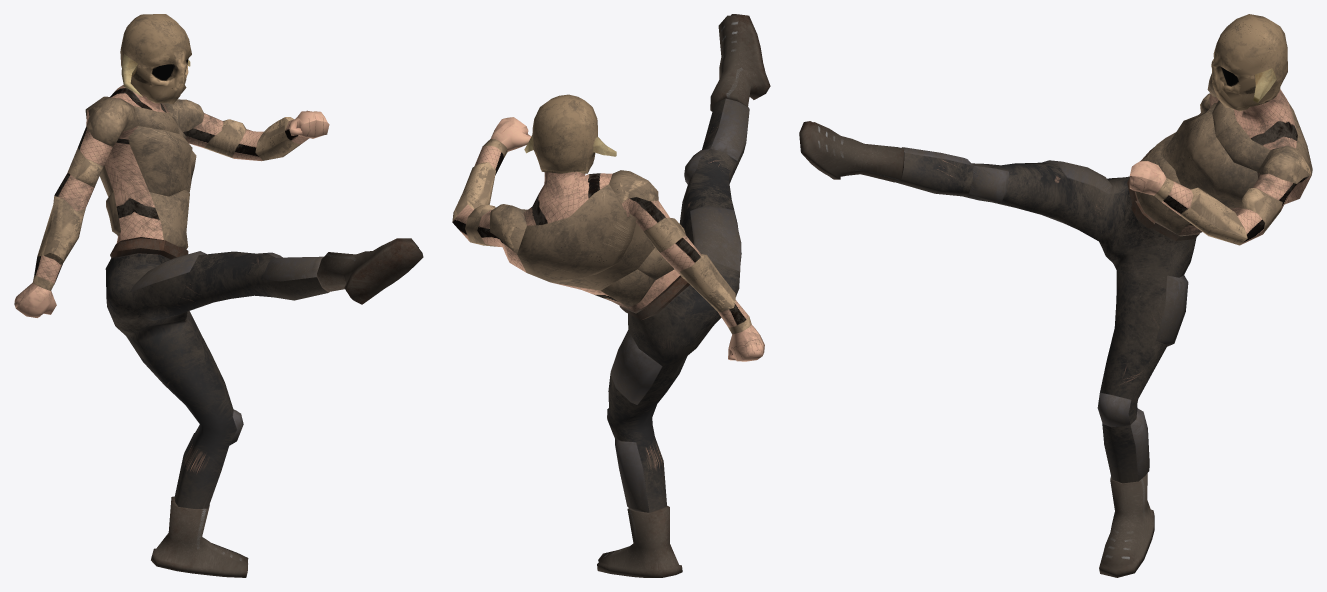
The model's file is Anim_ataque_f2_npc1.0018.obj.
The picture shows the model from 3 angles, left to right: view 1: azimuth 30°, elevation 25°; view 2: azimuth 150°, elevation 25°; view 3: azimuth 270°, elevation 25°; orthographic projection. The views are drawn at different scales.
Parts seen in each view (by area): view 1: NPC2; view 2: NPC2; view 3: NPC2.
Boxes of the visible parts, box(x1,y1,x2,y2) form: NPC2: box(14, 14, 423, 577); NPC2: box(452, 14, 770, 577); NPC2: box(799, 14, 1312, 577).
Bounding box in the file's own units: 5.22 × 8.9 × 7.6.
